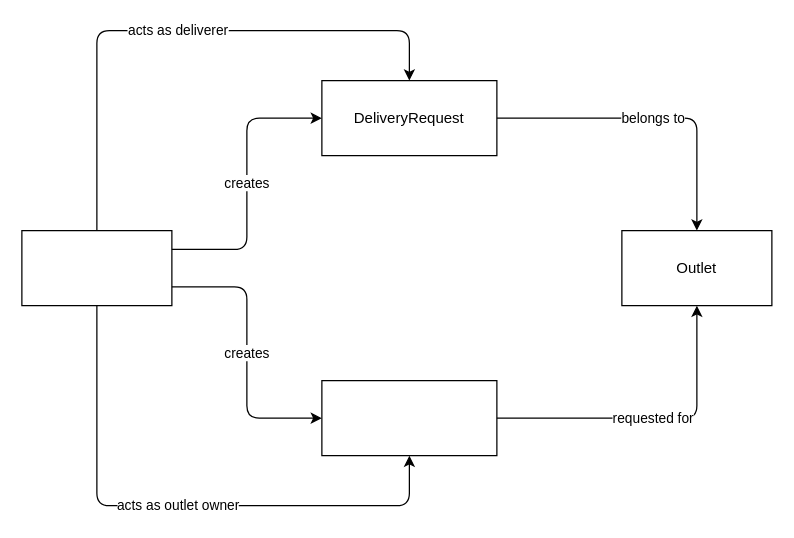
Image size: 794x538. Some labels were removed from this diagram. The shapes that lost their labels are listed below. From the top down, each one's centre as x and y in pixels, then its label:
At (x=96, y=267): "User".
At (x=409, y=417): "AvailabilityRequest".
